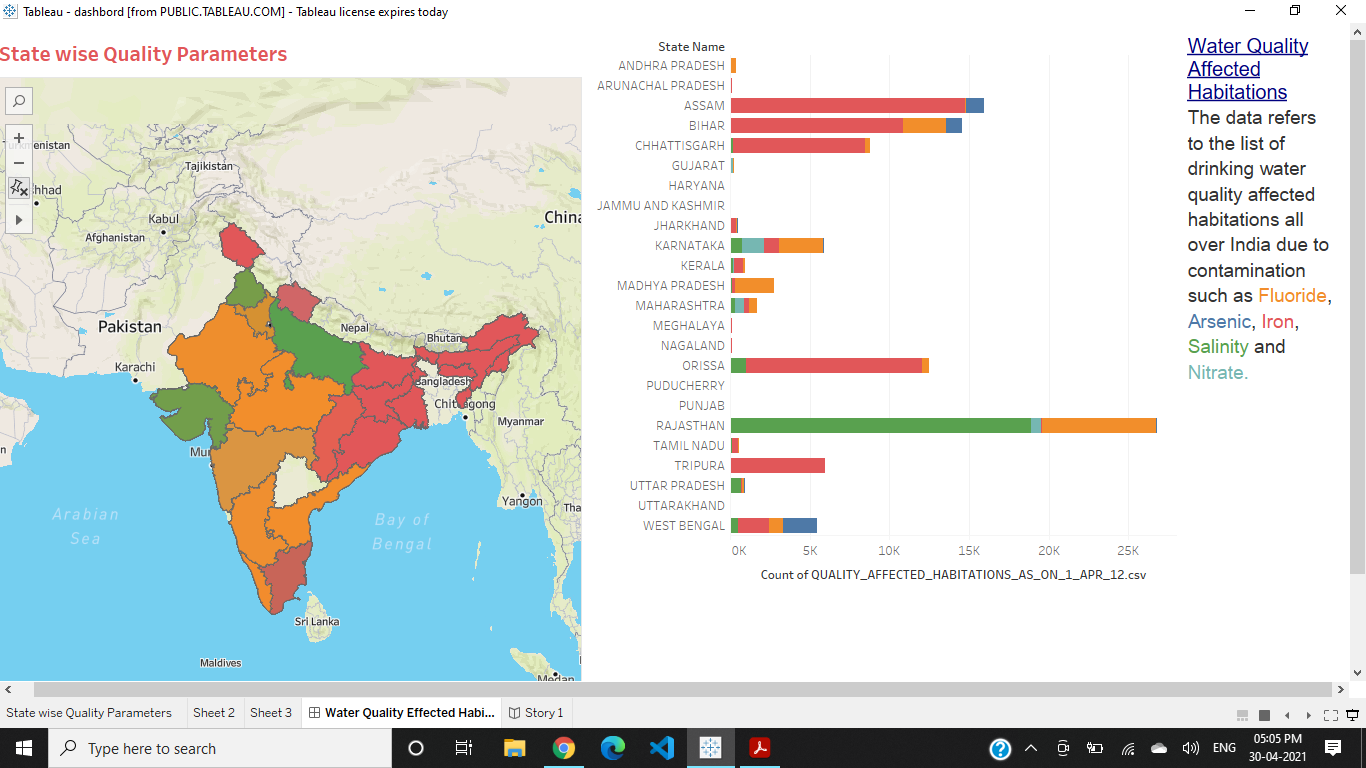

What the dashboard file says about the page in this screenshot:
{"tool":"tableau","page":{"name":"Water Quality Effected Habitations 2012","canvas":[1366,768],"ordinal":0},"visuals":[{"type":"worksheet","box":[0,0,1366,768]},{"type":"worksheet","param":"horz","box":[8,8,1350,752]},{"type":"worksheet","box":[8,8,1190,752]},{"type":"worksheet","title":"State wise Quality Parameters","mark":"Multipolygon","box":[8,8,595,752]},{"type":"worksheet","title":"Sheet 2","mark":"Automatic","rows":["State Name"],"cols":["QUALITY_AFFECTED_HABITATIONS_AS_ON_1_APR_12.csv_0BD6A307732A"],"box":[603,8,595,752]},{"type":"worksheet","param":"vert","box":[1198,8,160,752]},{"type":"worksheet","box":[1198,8,160,363]}]}

Visuals, with their boxes on the page's 1366x768 design canvas (x1, y1, x2, y2). These are canvas units, not pixel positions in the 1366x768 screenshot, which may show the page scaled, cropped or inside an application window:
worksheet: [x1=0, y1=0, x2=1366, y2=768]
worksheet: [x1=8, y1=8, x2=1358, y2=760]
worksheet: [x1=8, y1=8, x2=1198, y2=760]
"State wise Quality Parameters" worksheet (Multipolygon marks): [x1=8, y1=8, x2=603, y2=760]
"Sheet 2" worksheet: [x1=603, y1=8, x2=1198, y2=760]
worksheet: [x1=1198, y1=8, x2=1358, y2=760]
worksheet: [x1=1198, y1=8, x2=1358, y2=371]
